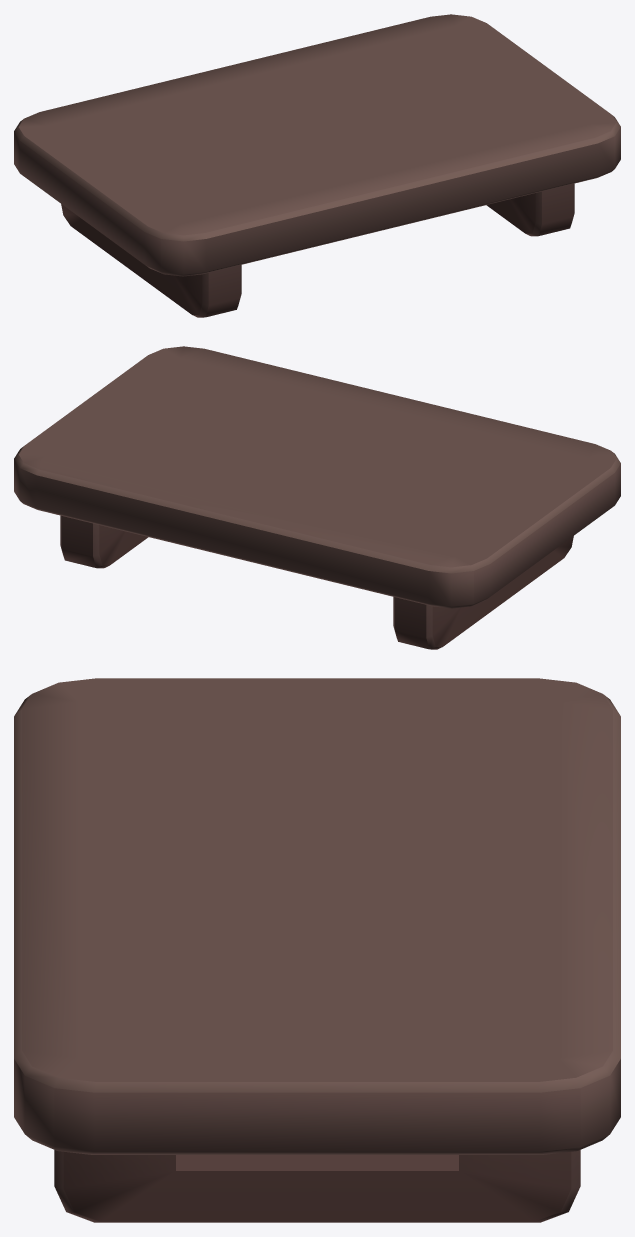
File: table_low.glb
The picture shows the model from 3 angles, top to bottom: view 1: azimuth 30°, elevation 25°; view 2: azimuth 150°, elevation 25°; view 3: azimuth 270°, elevation 25°; orthographic projection. The views are drawn at different scales.
Parts seen in each view (by area): view 1: table_low; view 2: table_low; view 3: table_low.
Part boxes in pixels (x1,y1,x2,y2): table_low: [14, 14, 620, 317]; table_low: [14, 346, 620, 649]; table_low: [14, 678, 620, 1222].
Size of the model in its own units: 2.4 by 0.5 by 1.5.
Materials: 1 (1 with a texture image).
